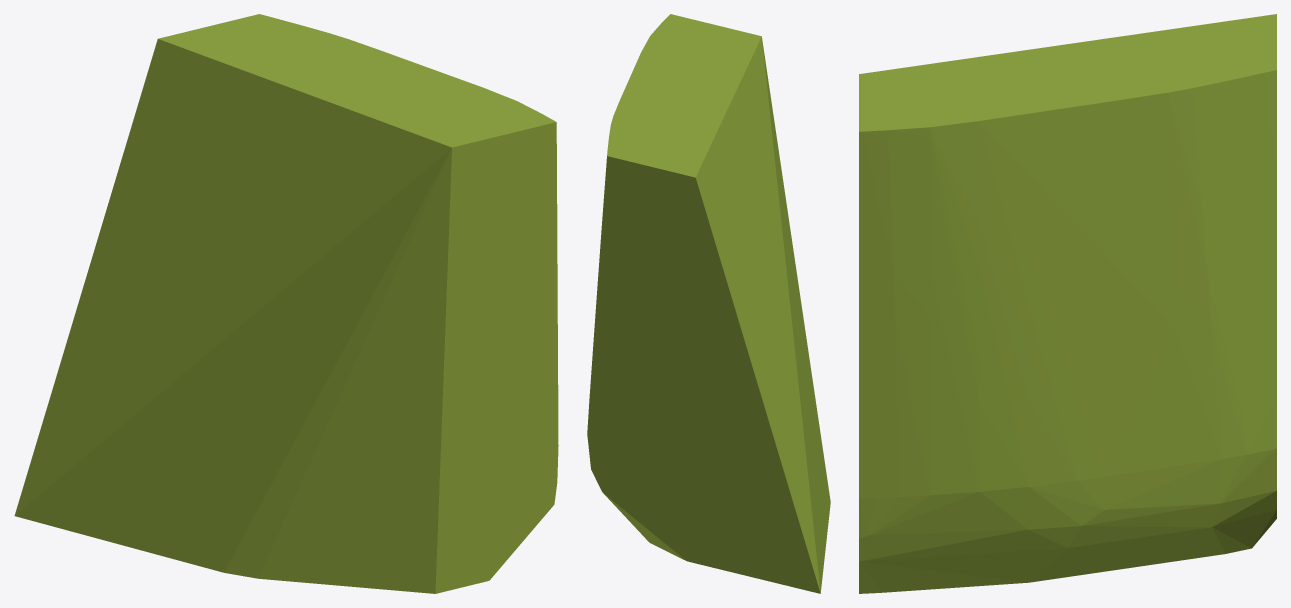
Rendered from left-shoulder-pitch-0_part_88.obj.
The picture shows the model from 3 angles, left to right: view 1: azimuth 30°, elevation 25°; view 2: azimuth 150°, elevation 25°; view 3: azimuth 270°, elevation 25°; orthographic projection. The views are drawn at different scales.
Bounding box in the file's own units: 0.0163 × 0.0192 × 0.0146.
